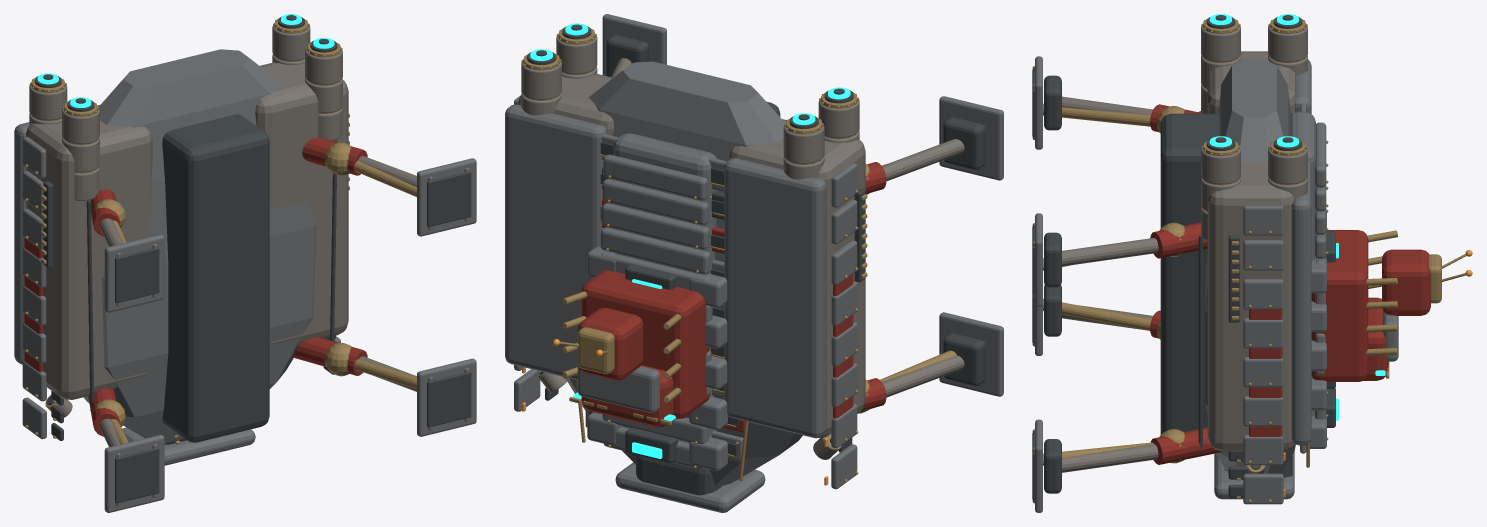
File: TenderHull.fbx
3 views of the same model, side by side, from view 1: azimuth 30°, elevation 25°; view 2: azimuth 150°, elevation 25°; view 3: azimuth 270°, elevation 25° (orthographic). The views are drawn at different scales.
Visible parts, largest first — view 1: TenderHull.001; view 2: TenderHull.001; view 3: TenderHull.001.
Boxes of the visible parts, x1,y1,x2,y2 form: TenderHull.001: (14,14,476,512); TenderHull.001: (505,14,1003,512); TenderHull.001: (1032,14,1472,512).
Bounding box in the file's own units: 10000 × 10000 × 10000.
